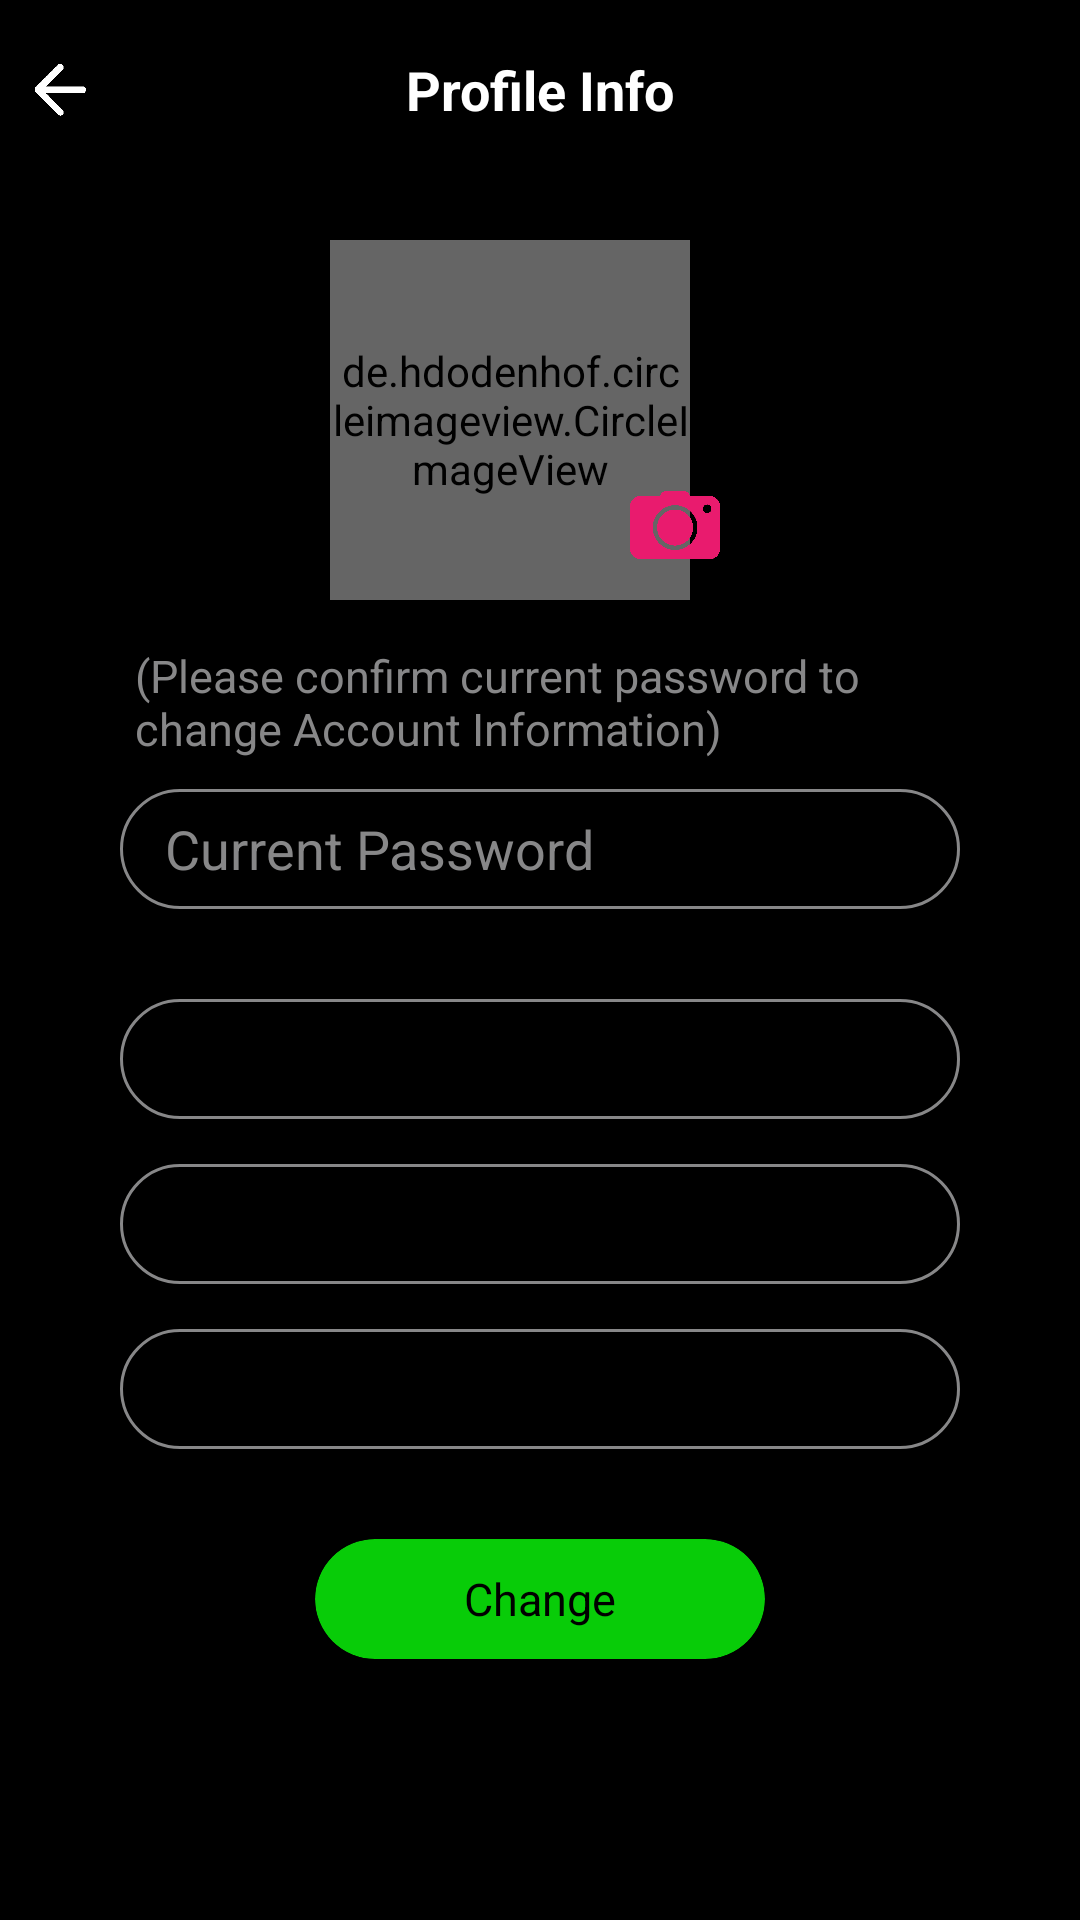

Icons on this 1080 × 1920 Android screen, each with its box as bbox=(x1, y1, x2, y2):
arrow: bbox=(35, 64, 86, 116)
